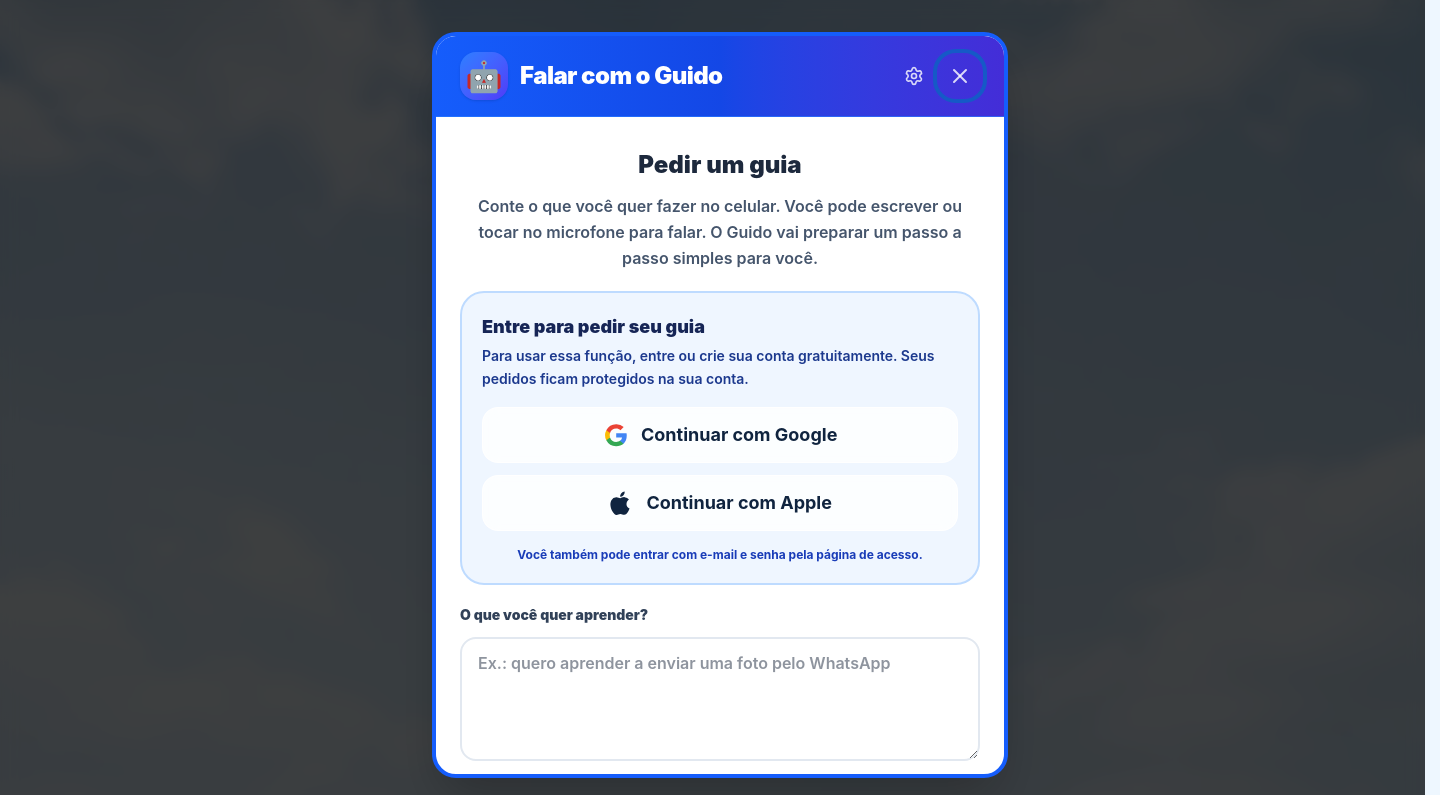
AskGuidoModal - Personalização de Voz e Avatar › permite selecionar uma voz e salva a preferência no localStorage
Click the button named "Personalizar voz e avatar" at (914, 76), box [896,58,932,94]
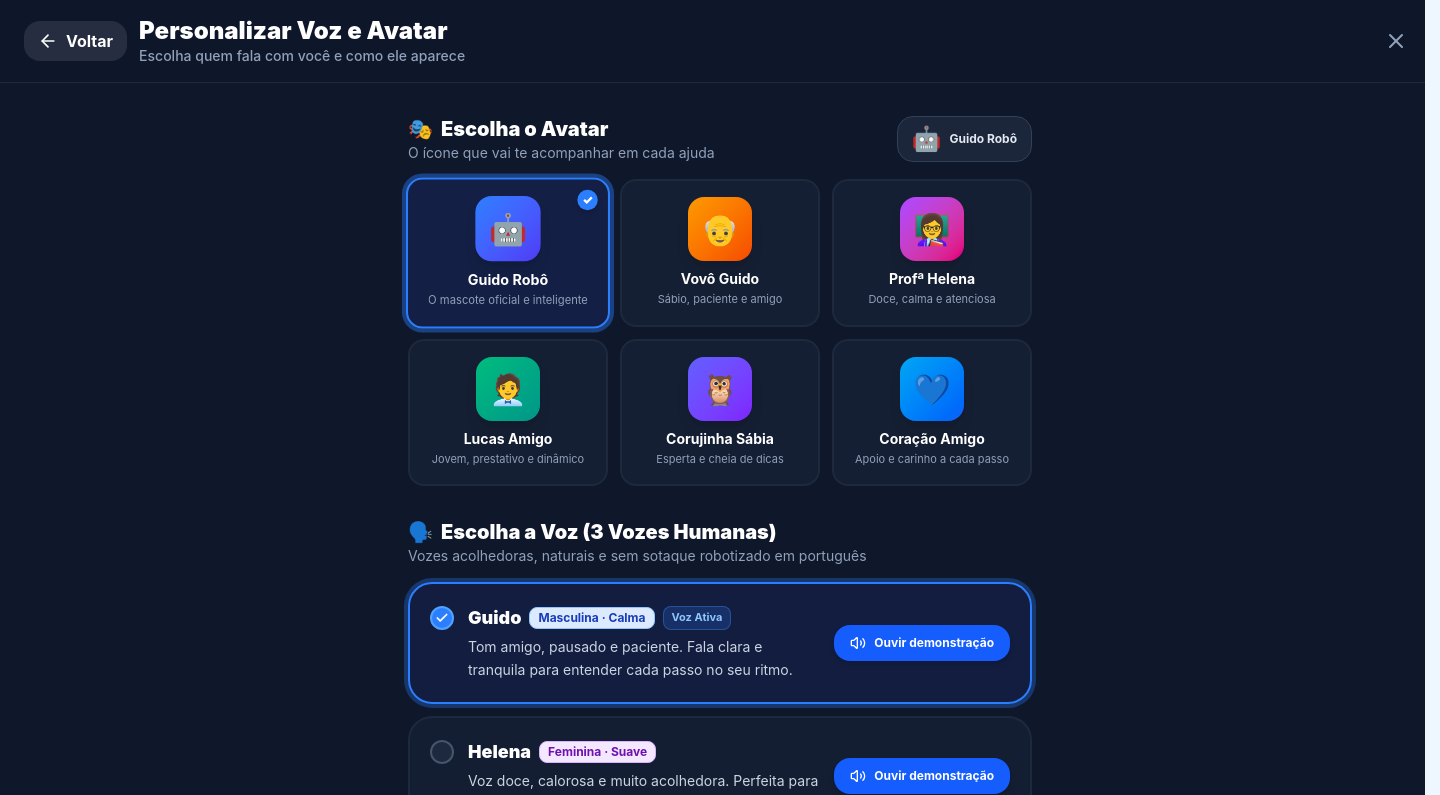
# Clica no card da voz da Helena
Click the text "Helena" at (500, 752), box [468,738,531,766]
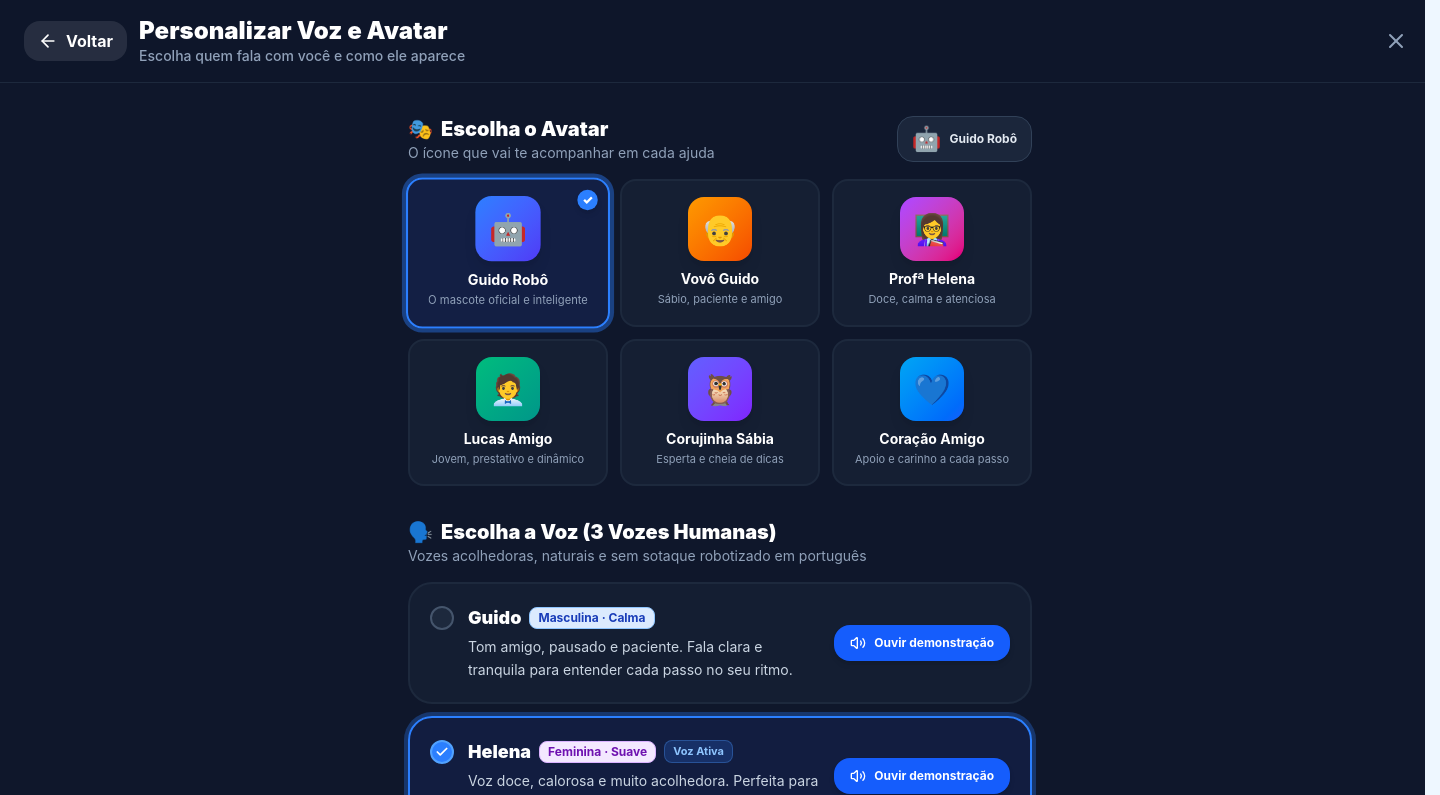
# Clica no botão Voltar
Click the button with aria-label "Voltar para falar com o Guido" at (76, 41), box [24,21,127,61]
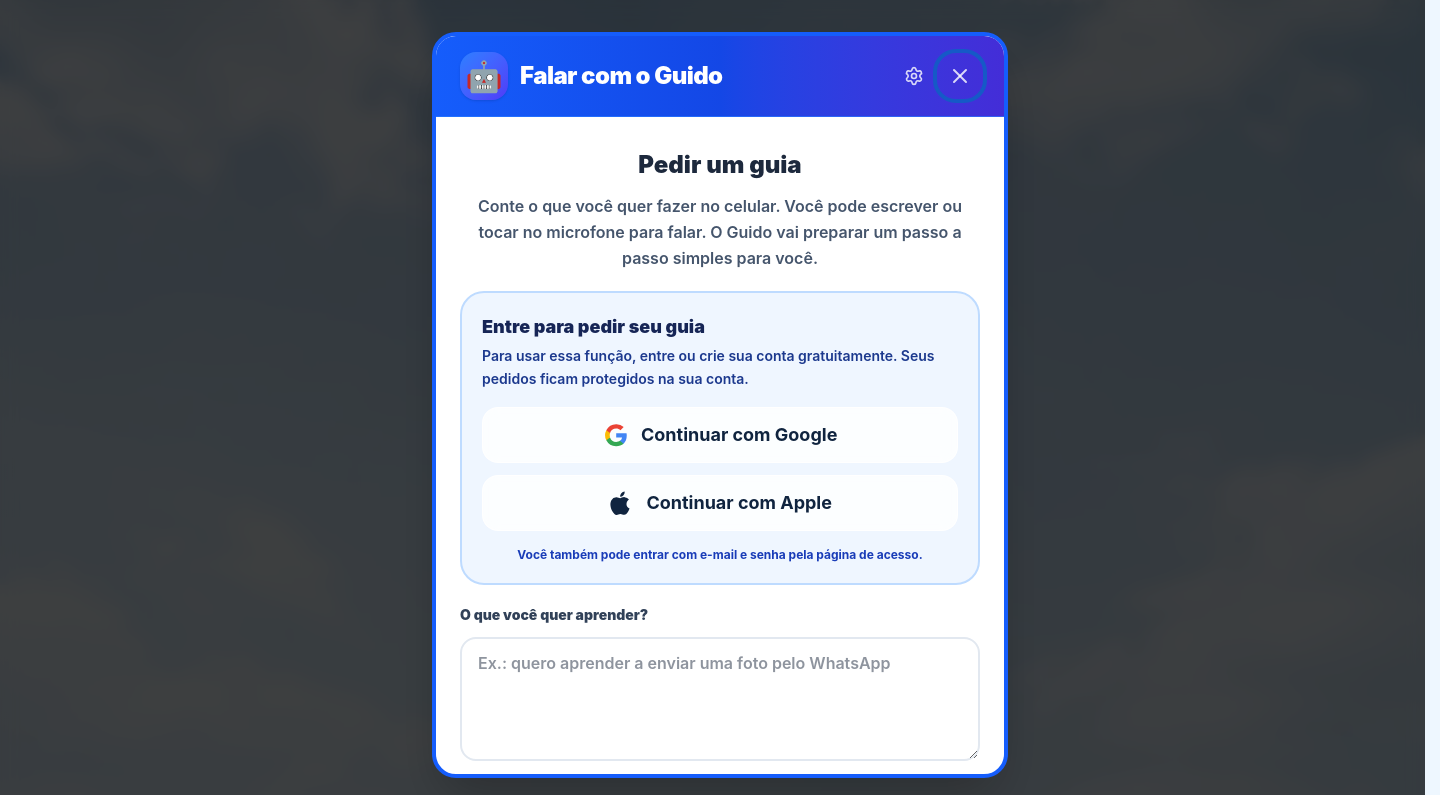
Now the heading "Personalizar Voz e Avatar" is gone
